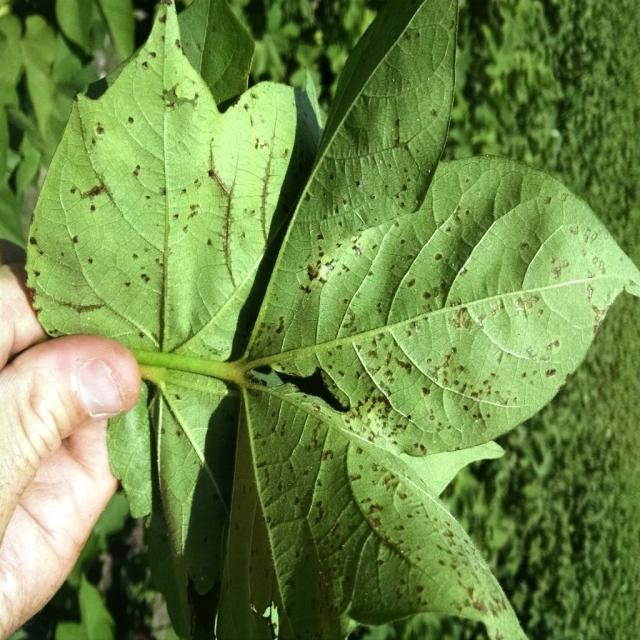Bacterial Blight: (255, 216, 472, 550)
